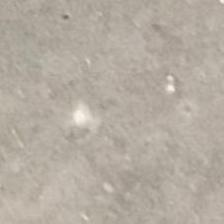Non_Crack: (30, 38, 204, 191)
